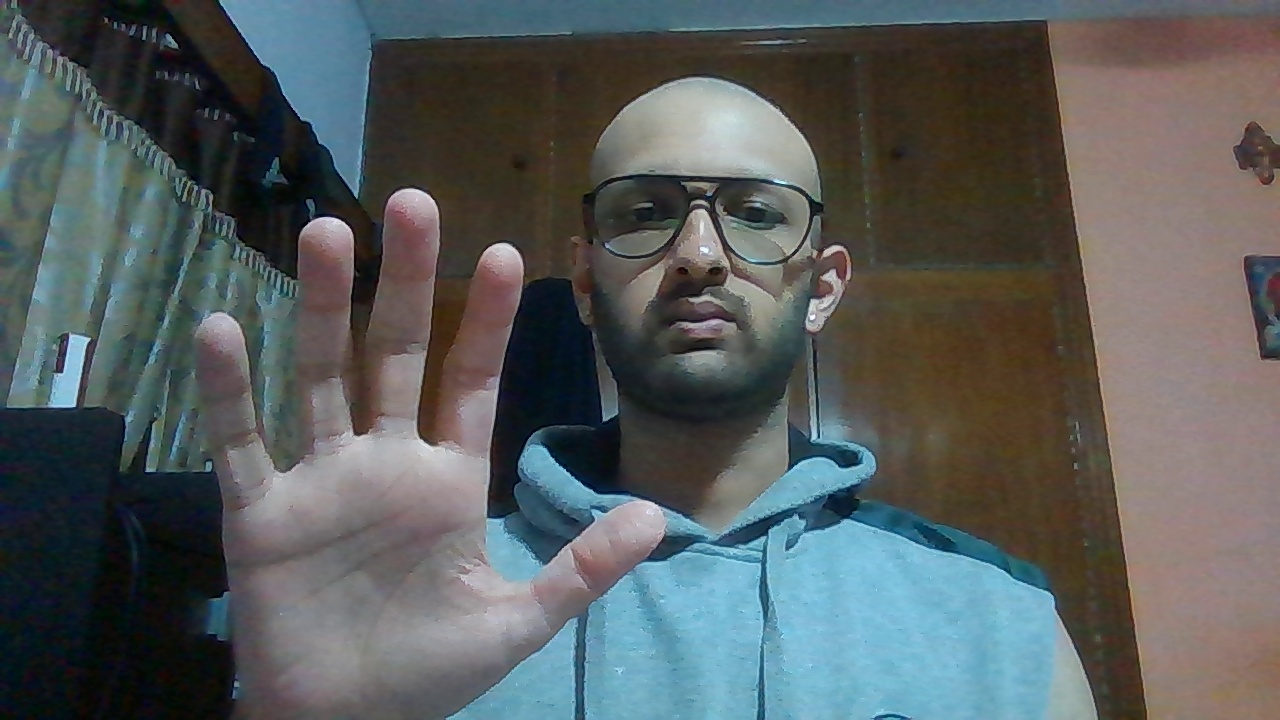Hello: (183, 182, 671, 720)
